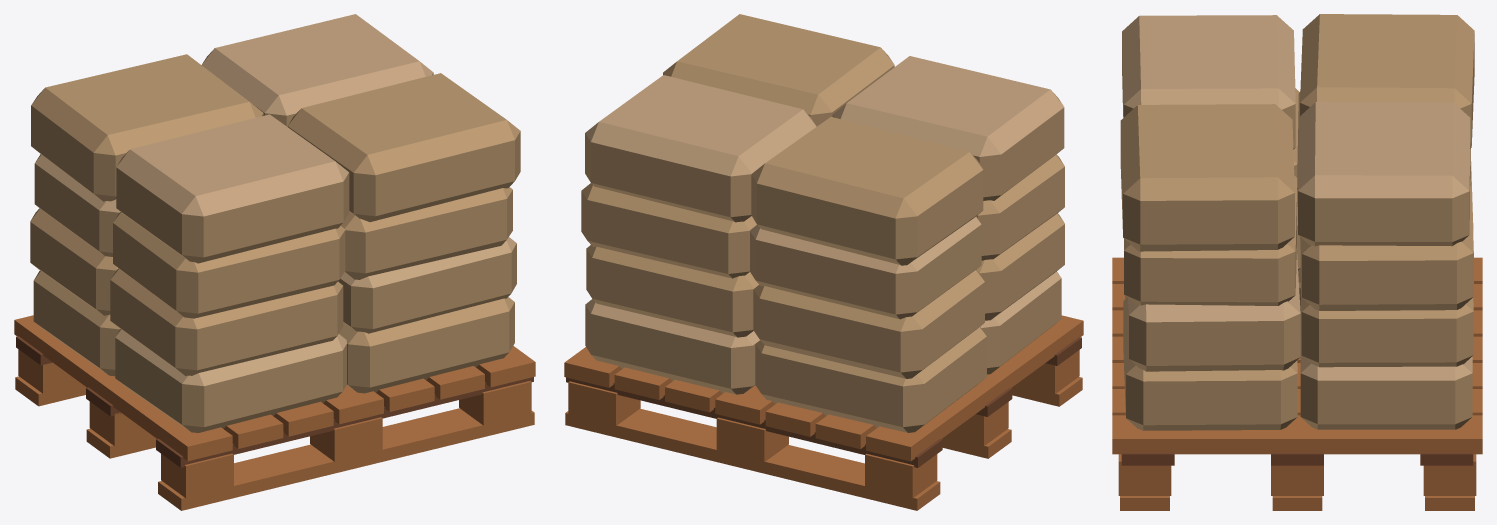
The picture shows the model from 3 angles, left to right: view 1: azimuth 30°, elevation 25°; view 2: azimuth 150°, elevation 25°; view 3: azimuth 270°, elevation 25°; orthographic projection. The views are drawn at different scales.
Parts seen in each view (by area): view 1: body, pal_woodWarm, pal_khakiLight, pal_leatherShadow; view 2: body, pal_woodWarm, pal_khakiLight, pal_leatherShadow; view 3: body, pal_khakiLight, pal_woodWarm, pal_leatherShadow.
Boxes of the visible parts, x1=… form: body: x1=30, y1=54, x2=520, y2=432; pal_woodWarm: x1=14, y1=315, x2=535, y2=510; pal_khakiLight: x1=35, y1=14, x2=516, y2=386; pal_leatherShadow: x1=16, y1=336, x2=533, y2=467; body: x1=581, y1=14, x2=1064, y2=432; pal_woodWarm: x1=564, y1=315, x2=1083, y2=510; pal_khakiLight: x1=585, y1=56, x2=1063, y2=347; pal_leatherShadow: x1=566, y1=337, x2=1081, y2=467; body: x1=1120, y1=14, x2=1474, y2=430; pal_khakiLight: x1=1122, y1=15, x2=1472, y2=380; pal_woodWarm: x1=1112, y1=257, x2=1482, y2=510; pal_leatherShadow: x1=1121, y1=453, x2=1473, y2=465.
Size of the model in its own units: 1.4 by 1.15 by 1.19.
